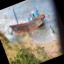fishing boat: (4, 0, 50, 39)
